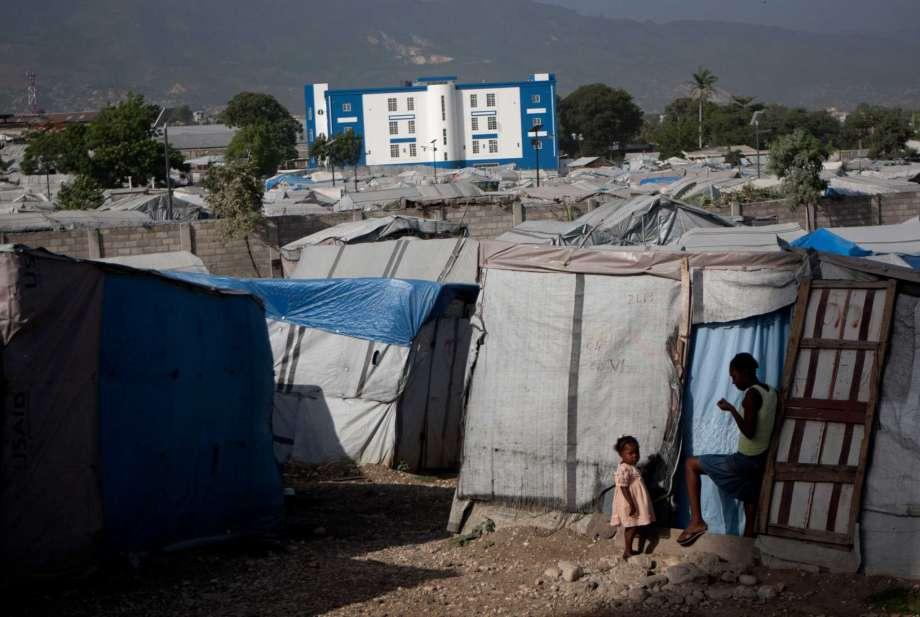victim: (674, 356, 783, 550), (599, 430, 657, 566)
